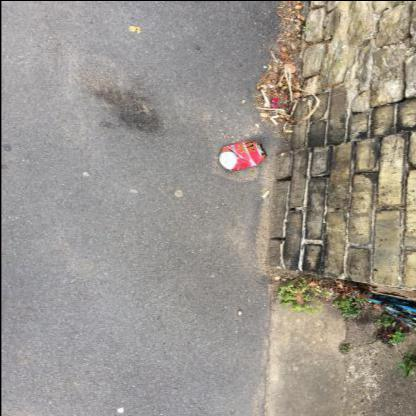Can: (218, 141, 266, 171)
Cigarette: (261, 189, 269, 197), (269, 117, 278, 124), (314, 287, 320, 291), (284, 129, 292, 131), (293, 290, 297, 292)
